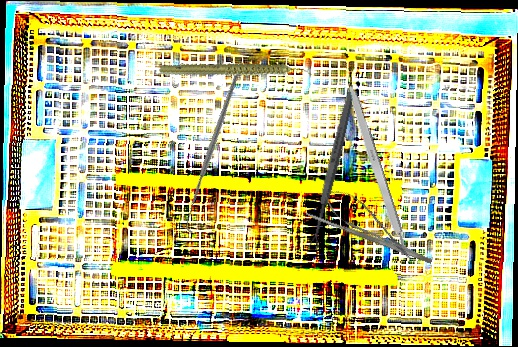Handpiece: (158, 33, 313, 111)
Hook Surgical: (129, 70, 299, 234)
Micro Scissor: (315, 179, 424, 270)
Scalpel Handle: (342, 79, 411, 259)
Spatula Surgical: (305, 210, 433, 265)
Surgical Spoon: (306, 91, 357, 251)
